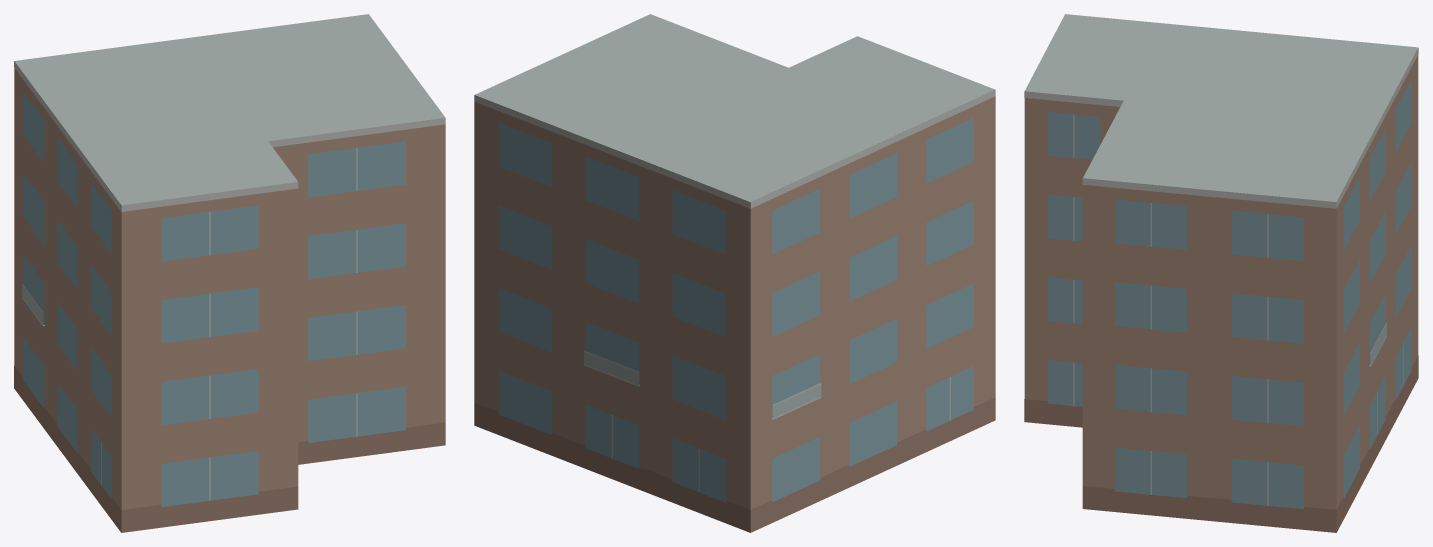
Rendered from residential-ecc2ed08-844b-4dbe-8814-b47f6d528f52.glb.
3 renders of one model, left to right at view 1: azimuth 30°, elevation 25°; view 2: azimuth 150°, elevation 25°; view 3: azimuth 270°, elevation 25°, orthographic.
Parts seen in each view (by area): view 1: residential-ecc2ed08-844b-4dbe-8814-b47f6d528f52.tmp; view 2: residential-ecc2ed08-844b-4dbe-8814-b47f6d528f52.tmp; view 3: residential-ecc2ed08-844b-4dbe-8814-b47f6d528f52.tmp.
Part boxes in pixels (bbox=[...]): residential-ecc2ed08-844b-4dbe-8814-b47f6d528f52.tmp: bbox=[14, 14, 445, 532]; residential-ecc2ed08-844b-4dbe-8814-b47f6d528f52.tmp: bbox=[474, 14, 995, 532]; residential-ecc2ed08-844b-4dbe-8814-b47f6d528f52.tmp: bbox=[1024, 14, 1418, 532].
Size of the model in its own units: 14.89 by 12.2 by 13.18.
